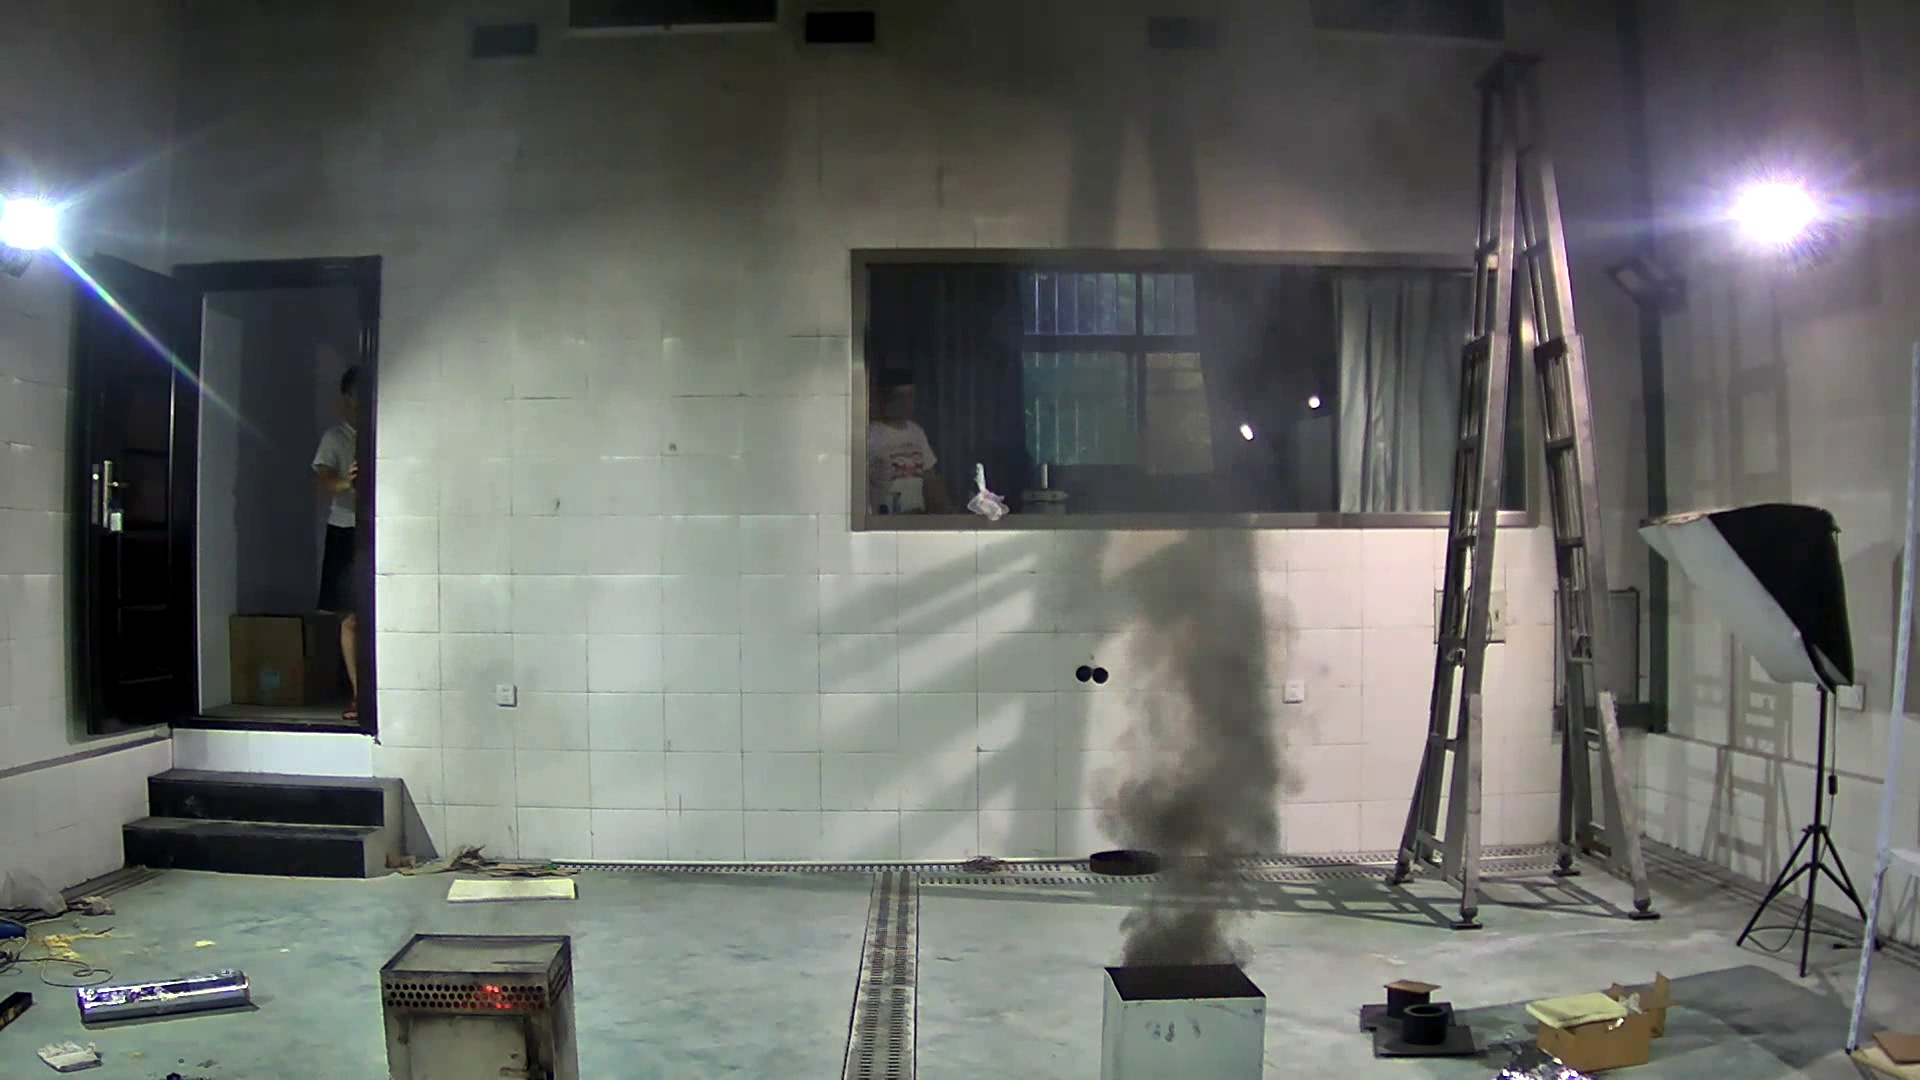smoke: (1098, 531, 1331, 968)
